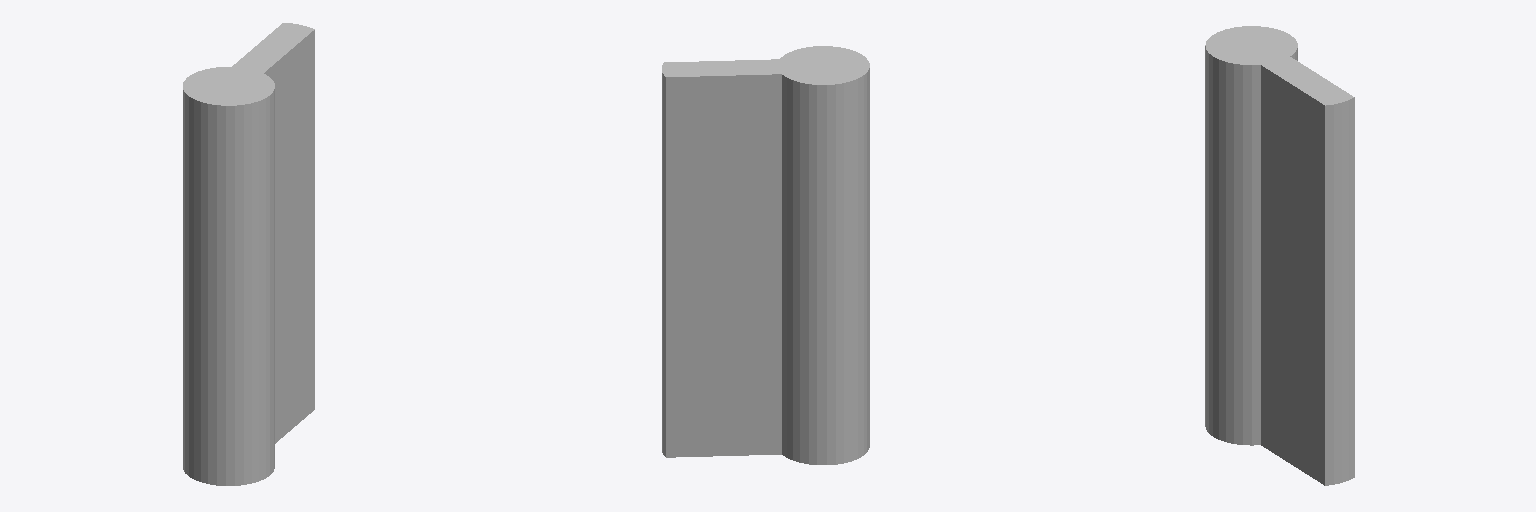
Rendered from building4.obj.
3 renders of one model, left to right at view 1: azimuth 30°, elevation 25°; view 2: azimuth 150°, elevation 25°; view 3: azimuth 270°, elevation 25°, orthographic.
Visible parts, largest first — view 1: Cylinder; view 2: Cylinder; view 3: Cylinder.
Part boxes in pixels (x1,y1,x2,y2): Cylinder: (183, 23, 314, 485); Cylinder: (662, 46, 869, 464); Cylinder: (1205, 26, 1354, 485).
Bounding box in the file's own units: 4.06 × 9.05 × 3.22.